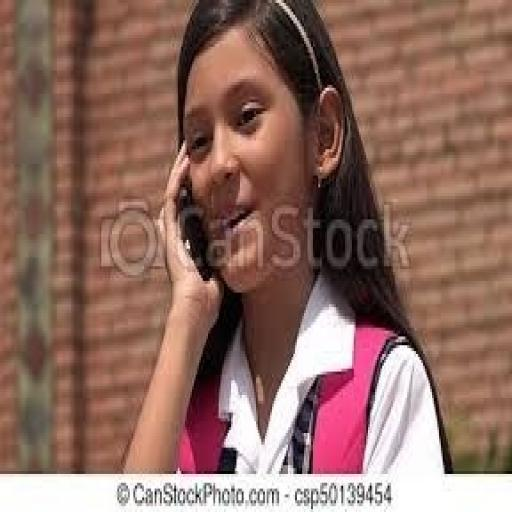calling: (118, 0, 454, 477)
